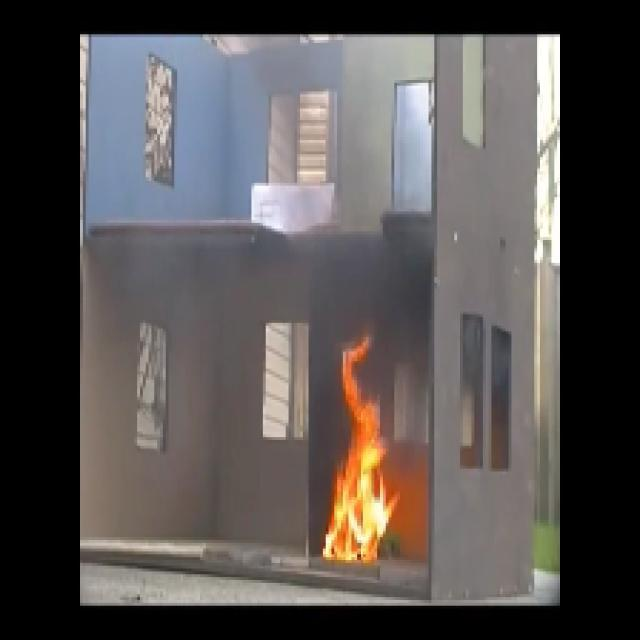Fire: (329, 330, 412, 582)
